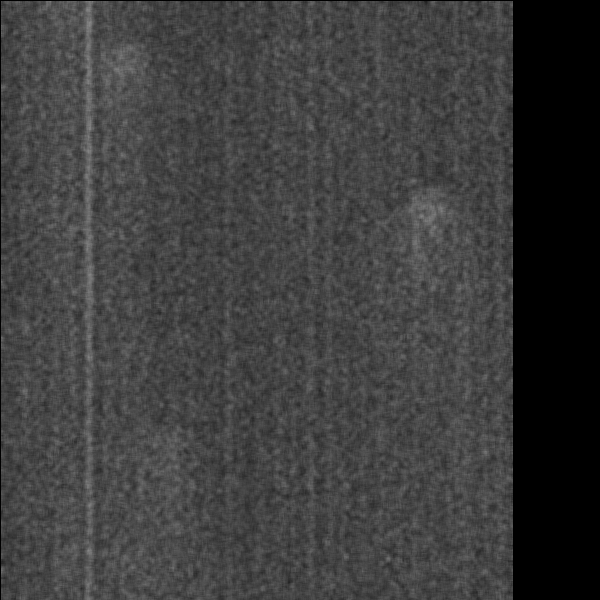spark: (411, 190, 443, 252)
